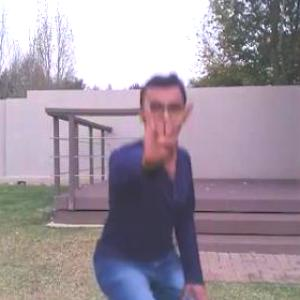takeoff-hand: (131, 84, 202, 160)
